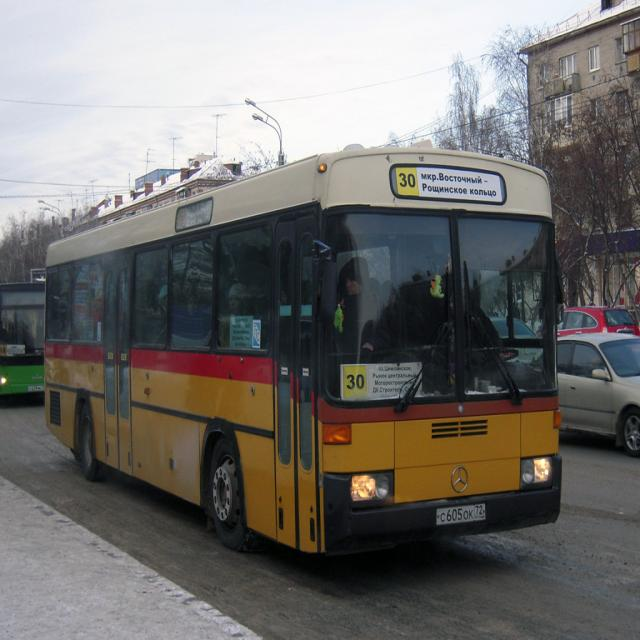number-of-bus: (344, 366, 368, 399), (396, 167, 419, 194)
